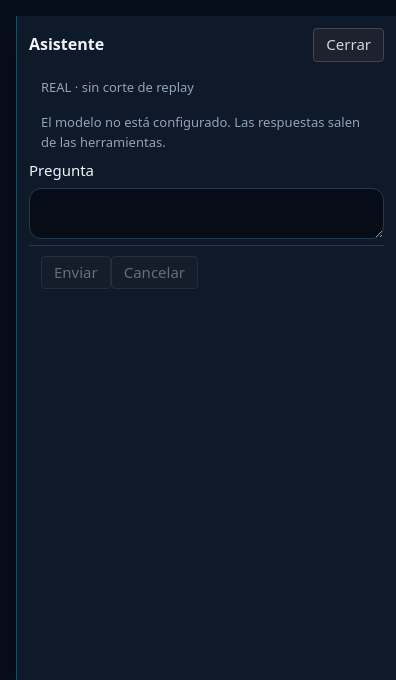
Test: asistente › identifica el resumen científico sin inferencia y ofrece procedencia
Type "¿Qué asociaciones hay?" into the text box named "Pregunta al asistente".
click(206, 213); type("¿Qué asociaciones hay?")  # box [29, 188, 384, 239]
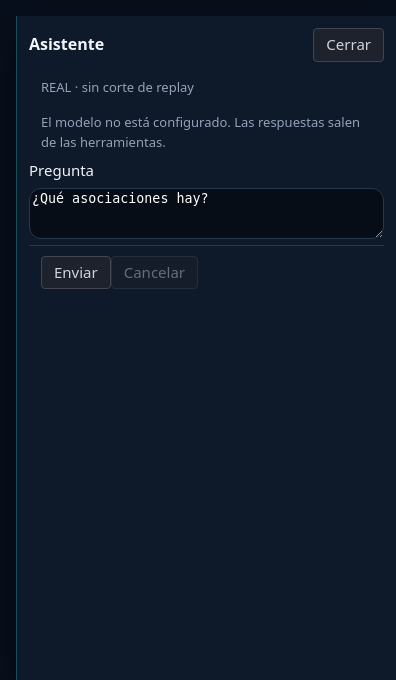
Click the button "Enviar".
click(76, 272)  # box [41, 256, 111, 289]
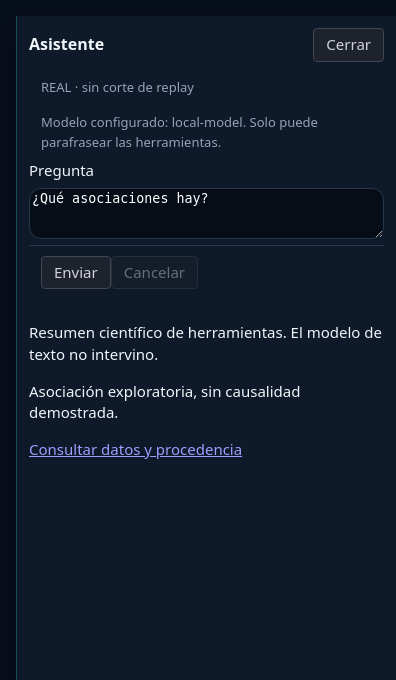
expect the text "Resumen científico de herramientas. El modelo de texto no intervino." is shown: met, box [29, 322, 384, 366]
